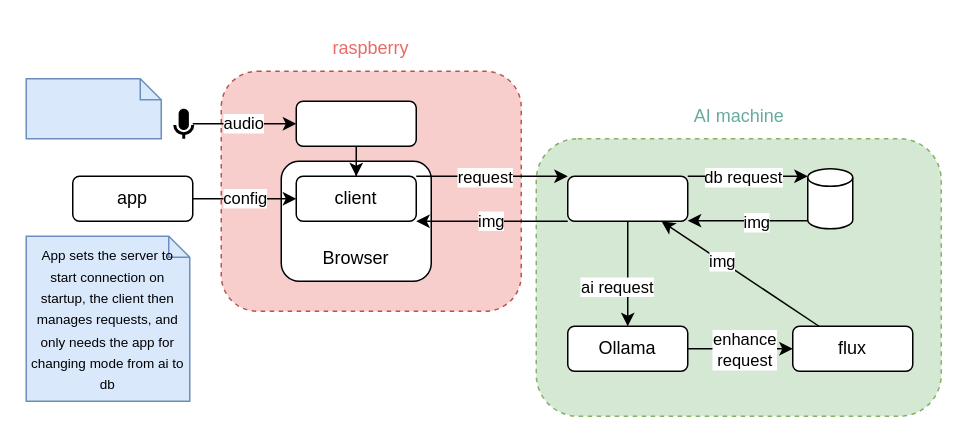
Some shapes in this 968 by 443 pixel diagram are drawn without their labels. The centre of each missing label's shape, as x and y in pixels:
"server" belongs at (627,198).
"use wakeword to activate commad" belongs at (93,108).
"whisper" belongs at (355,123).
